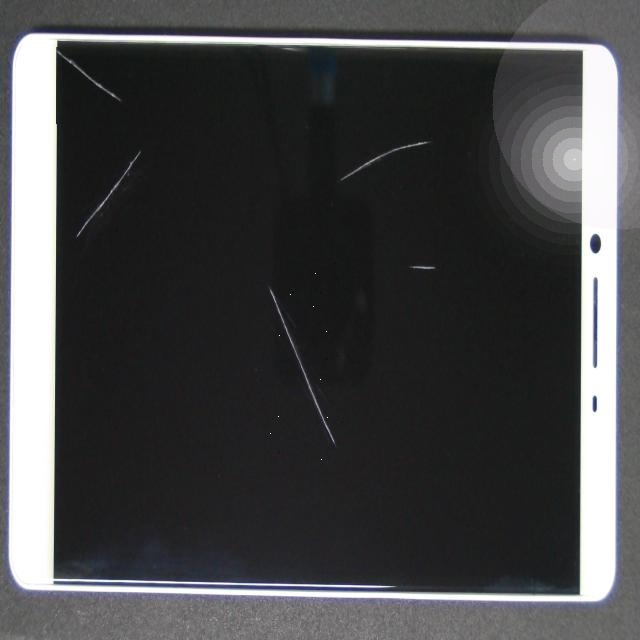scratch: (200, 147, 602, 441), (146, 125, 399, 400), (163, 73, 493, 268), (32, 90, 103, 360), (0, 0, 122, 118)
